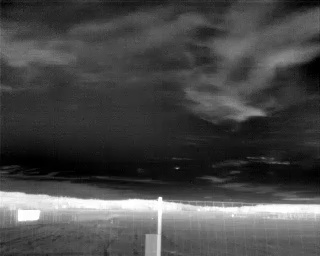AIRPLANE: (174, 165, 181, 171)
